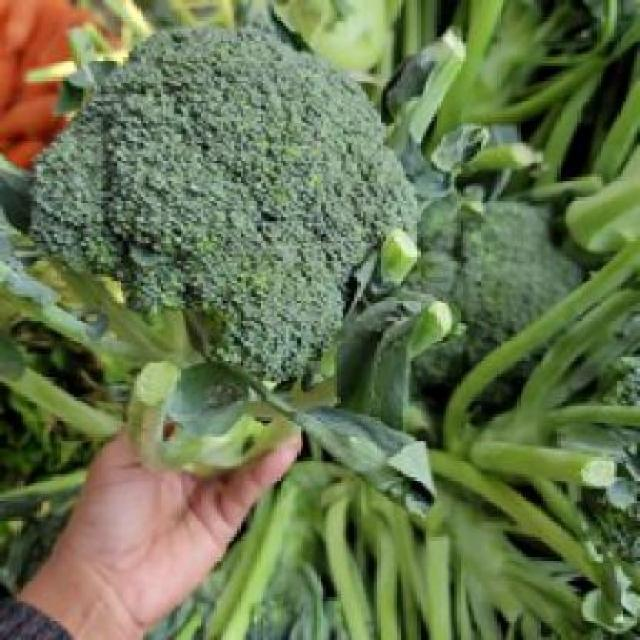broccoli: (33, 30, 413, 424), (376, 166, 638, 408)
